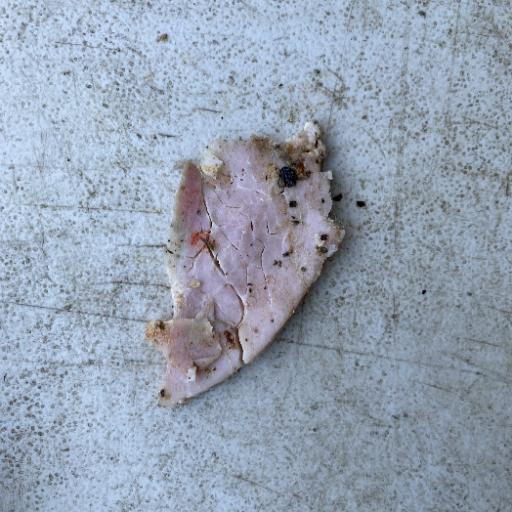Waste: (145, 118, 346, 408)
